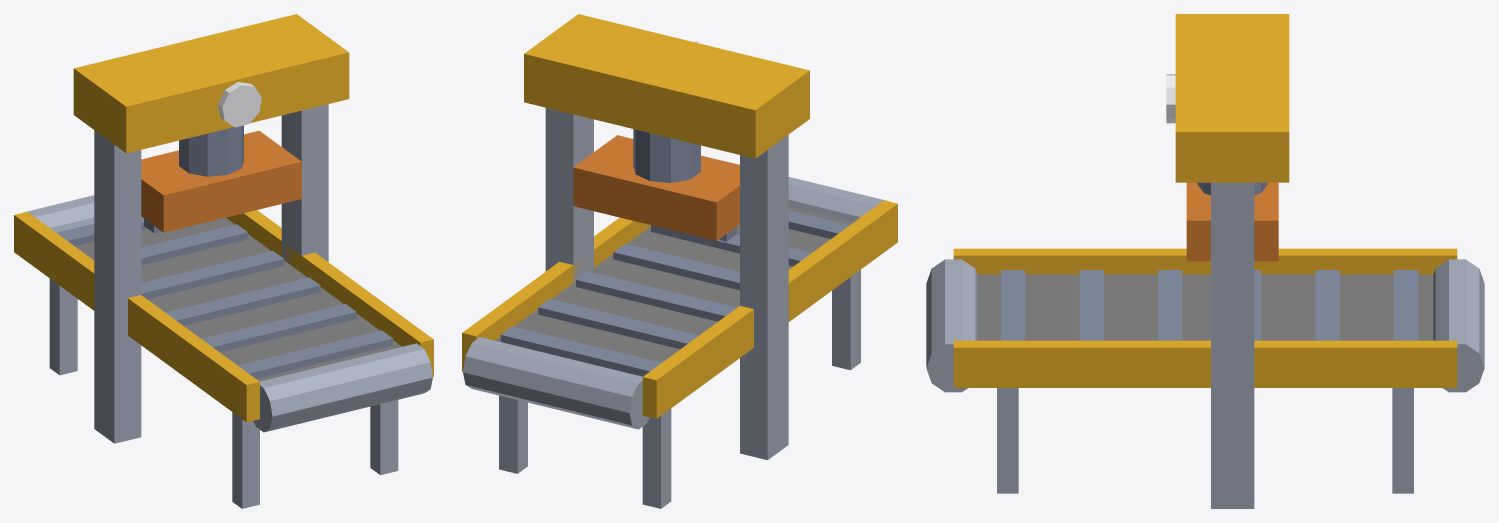
File: press_belt.glb
3 views of the same model, side by side, from view 1: azimuth 30°, elevation 25°; view 2: azimuth 150°, elevation 25°; view 3: azimuth 270°, elevation 25° (orthographic). The views are drawn at different scales.
Visible parts, largest first — view 1: press_belt; view 2: press_belt; view 3: press_belt.
Boxes of the visible parts, x1=… form: press_belt: x1=14, y1=14, x2=433, y2=508; press_belt: x1=462, y1=14, x2=897, y2=508; press_belt: x1=926, y1=14, x2=1484, y2=508.
Bounding box in the file's own units: 1 × 1.5 × 2.
